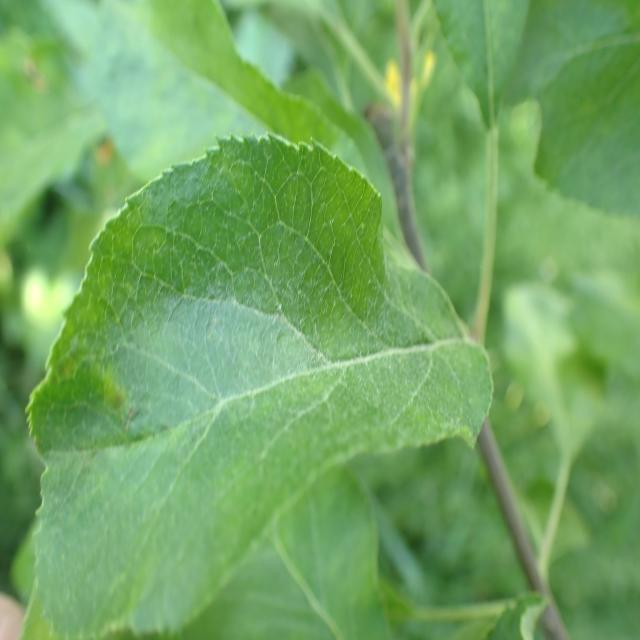scab: (41, 127, 456, 640)
